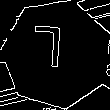L_S: (39, 28, 75, 80)
